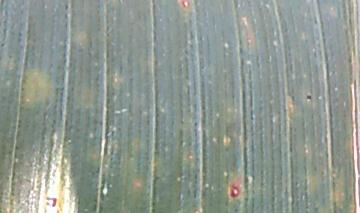tarspot: (304, 94, 313, 101)
